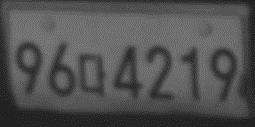1: (180, 42, 202, 102)
2: (146, 45, 176, 100)
4: (113, 44, 143, 98)
6: (47, 42, 75, 96)
9: (15, 41, 42, 95), (212, 46, 237, 100)
다: (78, 52, 107, 96)
